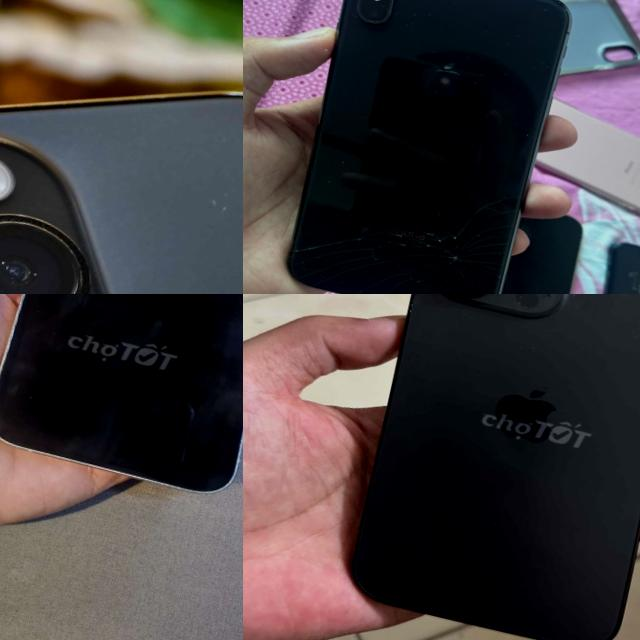gen_12_13: (0, 294, 243, 505)
gen_14: (313, 294, 640, 640), (0, 0, 243, 294)
gen_x_xs: (280, 0, 574, 294)
physical_damage: (439, 179, 526, 294), (314, 198, 392, 294), (378, 203, 458, 294), (282, 213, 326, 282)
scratch: (184, 130, 243, 236)
